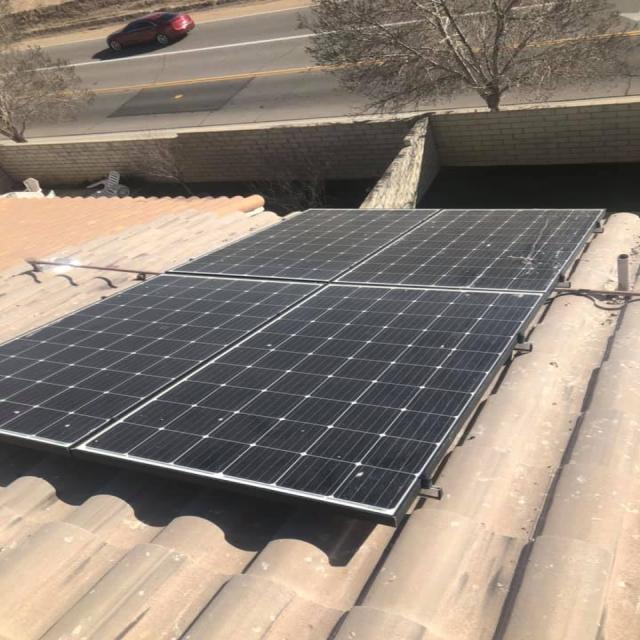dust-solar-panel: (0, 206, 605, 518)
